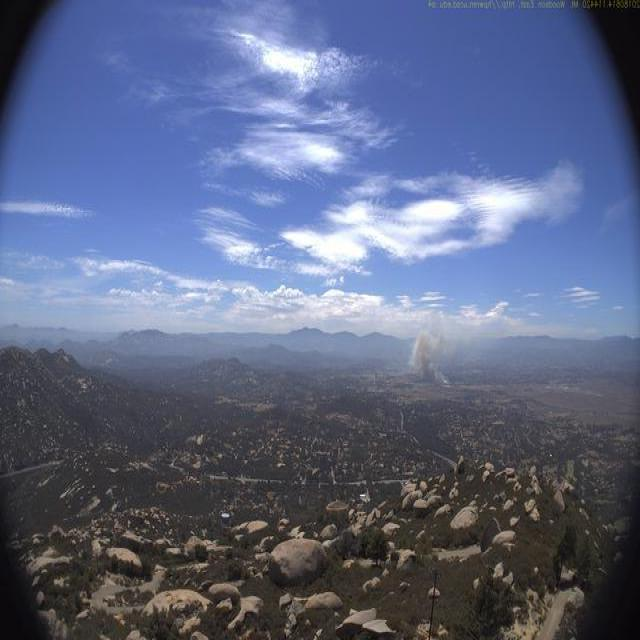Smoke: (405, 302, 495, 394)
